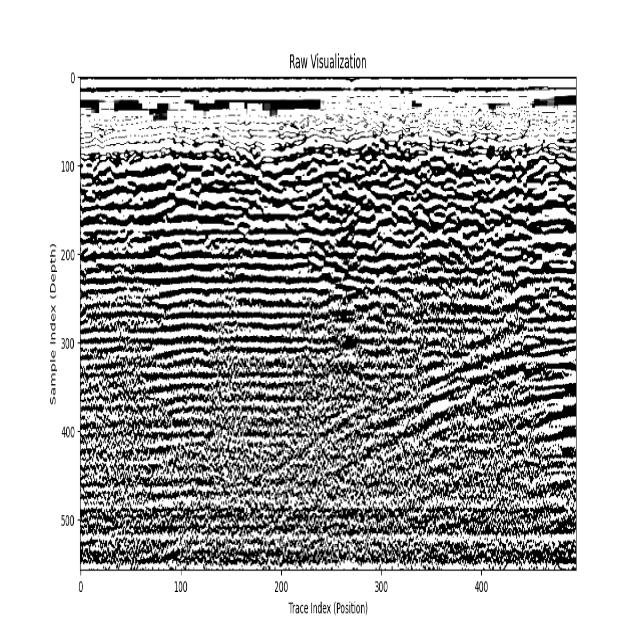anomaly: (156, 240, 572, 572)
